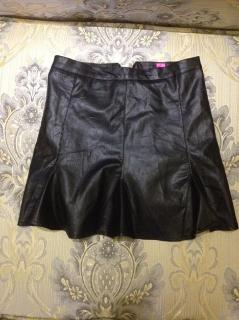skirt: (18, 55, 239, 241)
